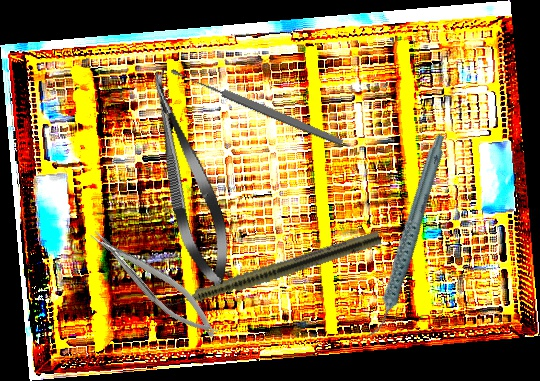Handpiece: (328, 131, 485, 341), (152, 227, 383, 318)
Micro Scissor: (135, 64, 241, 292)
Needle Holder: (84, 217, 226, 349)
Surgical Spoon: (168, 64, 346, 149)
